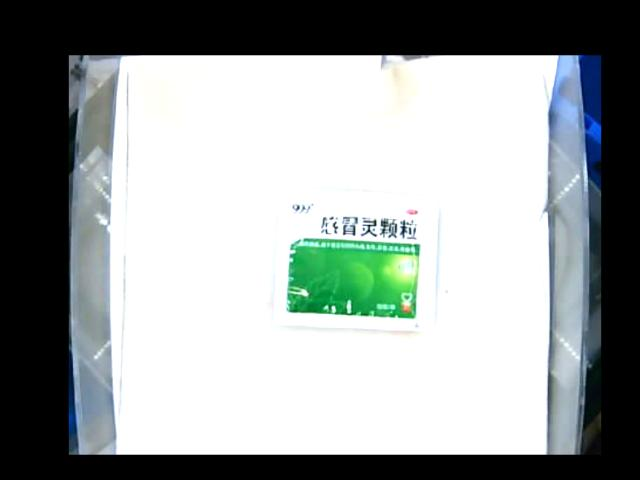Medicine: (274, 186, 437, 332)
